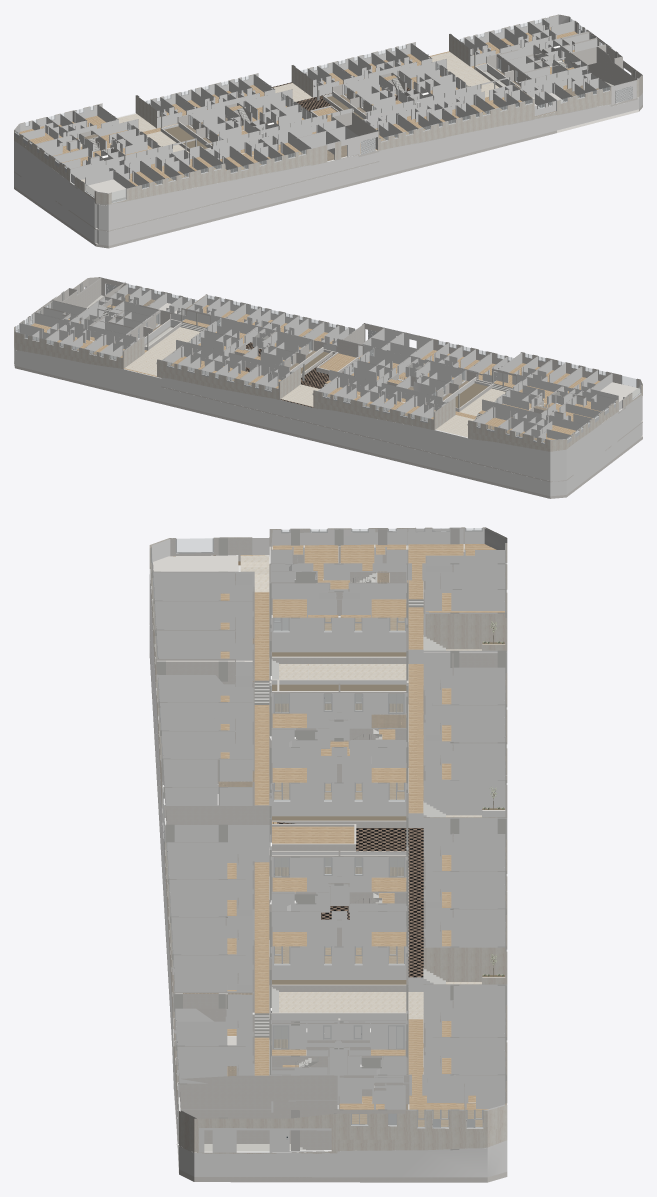
File: apolo_corte_baja.glb
3 views of the same model, one above another, from view 1: azimuth 30°, elevation 25°; view 2: azimuth 150°, elevation 25°; view 3: azimuth 270°, elevation 25° (orthographic). The views are drawn at different scales.
Visible parts, largest first — view 1: envolvente__T2__APOLO V6 | Pintura interior blanca mate, envolvente__T2__APOLO V6 | Monocapa blanco roto 5pct calido, envolvente__T2__APOLO V6 | Travertino marfil veta vertical, envolvente__T2__APOLO V3 | Vinilo roble natural claro, envolvente__T4__APOLO V6 | PAMESA WELLS Ivory 120x60, envolvente__T0__APOLO V6 | PAMESA WELLS Ivory 120x60, envolvente__T1__Gym_V5_recrecido, envolvente__T2__SERENEA V3 | Tierra y acolchado de jardinera, envolvente__T2__APOLO | Tarima exterior greige; view 2: envolvente__T2__APOLO V6 | Pintura interior blanca mate, envolvente__T2__APOLO V6 | Monocapa blanco roto 5pct calido, envolvente__T2__APOLO V6 | Travertino marfil veta vertical, envolvente__T2__APOLO V3 | Vinilo roble natural claro, envolvente__T4__APOLO V6 | PAMESA WELLS Ivory 120x60, envolvente__T0__APOLO V6 | PAMESA WELLS Ivory 120x60, envolvente__T2__SERENEA V3 | Tierra y acolchado de jardinera, envolvente__T1__Gym_V5_recrecido, carpinteria__T4__APOLO V6 | Aluminio plata grata, carpinteria__T0__APOLO V6 | Aluminio plata grata, carpinteria__T2__APOLO V6 | Aluminio plata grata, envolvente__T2__Tile_Interior_05_1K; view 3: envolvente__T2__APOLO V6 | Pintura interior blanca mate, envolvente__T2__APOLO V6 | Monocapa blanco roto 5pct calido, envolvente__T2__APOLO V3 | Vinilo roble natural claro, envolvente__T2__APOLO V6 | Travertino marfil veta vertical, envolvente__T4__APOLO V6 | PAMESA WELLS Ivory 120x60, envolvente__T2__SERENEA V3 | Tierra y acolchado de jardinera, envolvente__T4__Tile_Interior_05_1K, envolvente__T2__APOLO | Tarima exterior greige, envolvente__T0__APOLO V6 | PAMESA WELLS Ivory 120x60, pilar__T0__APOLO | Hormigon gris claro, envolvente__T4__APOLO | Hormigon gris claro, envolvente__T1__Gym_V5_recrecido (+7 smaller).
Boxes of the visible parts, x1,y1,x2,y2 form: envolvente__T2__APOLO V6 | Pintura interior blanca mate: (14, 14, 642, 245); envolvente__T2__APOLO V6 | Monocapa blanco roto 5pct calido: (14, 24, 642, 248); envolvente__T2__APOLO V6 | Travertino marfil veta vertical: (14, 14, 642, 204); envolvente__T2__APOLO V3 | Vinilo roble natural claro: (19, 27, 577, 185); envolvente__T4__APOLO V6 | PAMESA WELLS Ivory 120x60: (273, 52, 499, 101); envolvente__T0__APOLO V6 | PAMESA WELLS Ivory 120x60: (80, 113, 189, 152); envolvente__T1__Gym_V5_recrecido: (85, 177, 125, 202); envolvente__T2__SERENEA V3 | Tierra y acolchado de jardinera: (164, 96, 363, 148); envolvente__T2__APOLO | Tarima exterior greige: (84, 69, 599, 160); envolvente__T2__APOLO V6 | Pintura interior blanca mate: (14, 277, 642, 496); envolvente__T2__APOLO V6 | Monocapa blanco roto 5pct calido: (14, 277, 642, 498); envolvente__T2__APOLO V6 | Travertino marfil veta vertical: (14, 277, 642, 451); envolvente__T2__APOLO V3 | Vinilo roble natural claro: (31, 305, 600, 442); envolvente__T4__APOLO V6 | PAMESA WELLS Ivory 120x60: (125, 327, 319, 406); envolvente__T0__APOLO V6 | PAMESA WELLS Ivory 120x60: (436, 388, 545, 437); envolvente__T2__SERENEA V3 | Tierra y acolchado de jardinera: (198, 341, 488, 407); envolvente__T1__Gym_V5_recrecido: (600, 382, 640, 401); carpinteria__T4__APOLO V6 | Aluminio plata grata: (167, 318, 312, 392); carpinteria__T0__APOLO V6 | Aluminio plata grata: (476, 378, 615, 444); carpinteria__T2__APOLO V6 | Aluminio plata grata: (322, 348, 465, 423); envolvente__T2__Tile_Interior_05_1K: (301, 355, 352, 385); envolvente__T2__APOLO V6 | Pintura interior blanca mate: (149, 528, 507, 1177); envolvente__T2__APOLO V6 | Monocapa blanco roto 5pct calido: (149, 528, 507, 1182); envolvente__T2__APOLO V3 | Vinilo roble natural claro: (220, 544, 504, 1126); envolvente__T2__APOLO V6 | Travertino marfil veta vertical: (149, 527, 507, 1153); envolvente__T4__APOLO V6 | PAMESA WELLS Ivory 120x60: (279, 815, 481, 1019); envolvente__T2__SERENEA V3 | Tierra y acolchado de jardinera: (272, 652, 406, 984); envolvente__T4__Tile_Interior_05_1K: (321, 828, 423, 977); envolvente__T2__APOLO | Tarima exterior greige: (154, 546, 506, 1109); envolvente__T0__APOLO V6 | PAMESA WELLS Ivory 120x60: (279, 649, 481, 679); pilar__T0__APOLO | Hormigon gris claro: (269, 527, 506, 682); envolvente__T4__APOLO | Hormigon gris claro: (165, 563, 386, 1077); envolvente__T1__Gym_V5_recrecido: (153, 540, 240, 571).
Size of the model in its own units: 111 by 11.85 by 31.2.
Materials: 28 (7 with a texture image).
